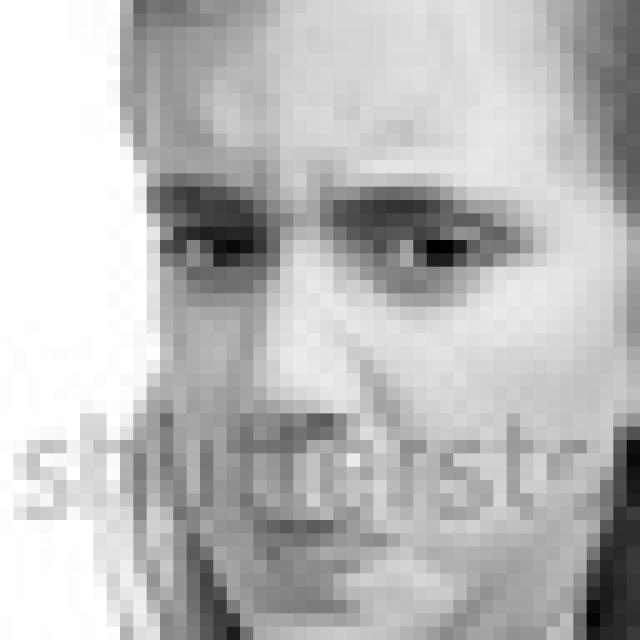disgust: (160, 177, 539, 597)
